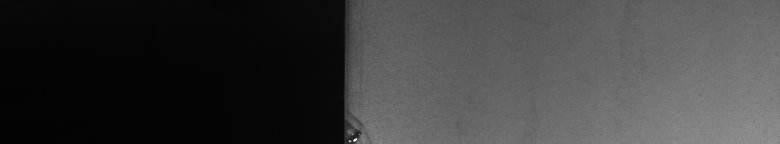hb: (356, 112, 376, 136)
